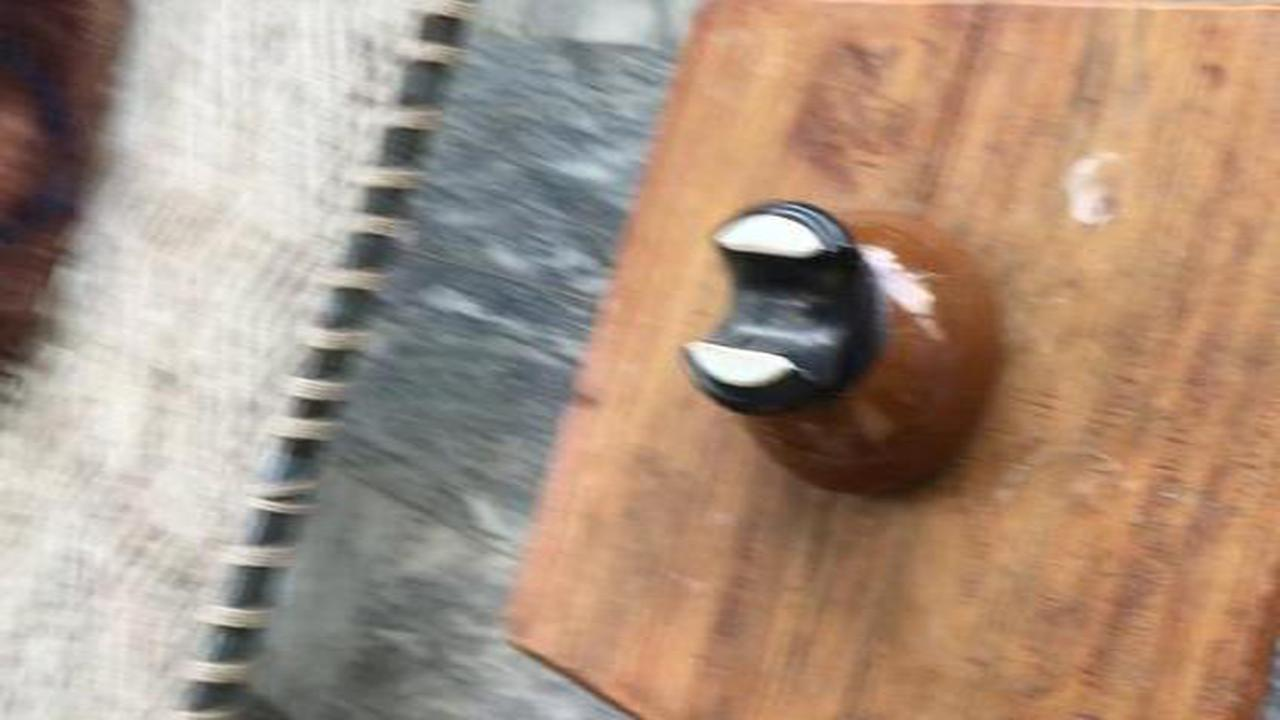insulator_pin: (671, 189, 1034, 520)
